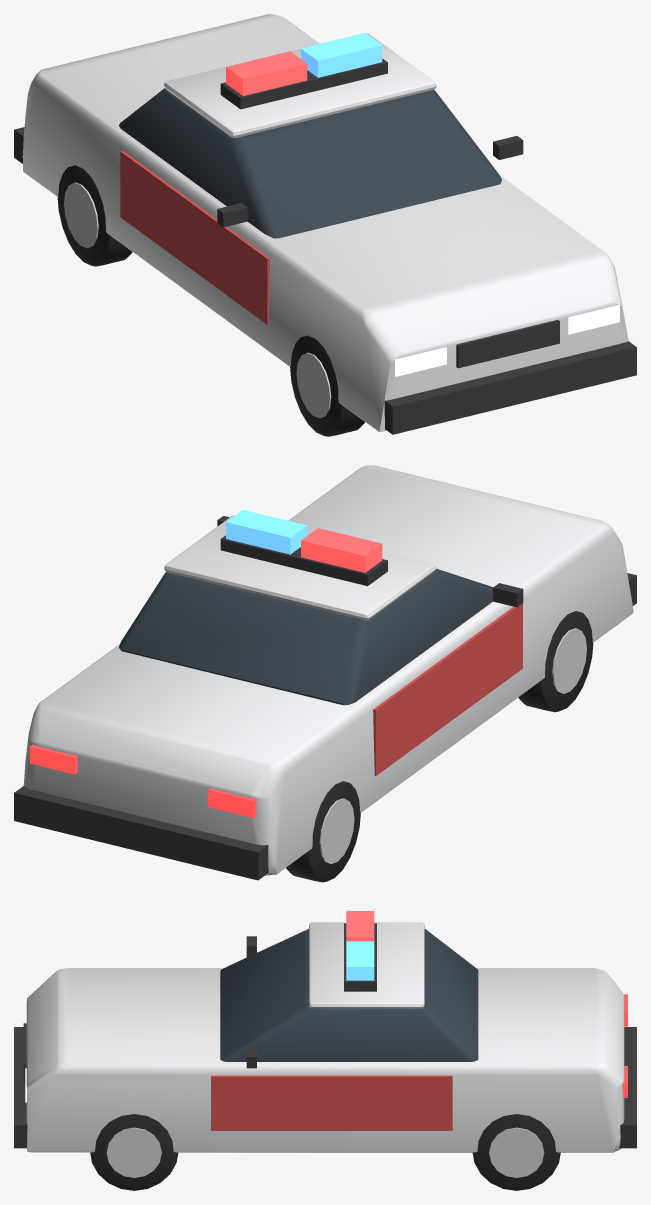
Rendered from car_police.glb.
3 renders of one model, top to bottom at view 1: azimuth 30°, elevation 25°; view 2: azimuth 150°, elevation 25°; view 3: azimuth 270°, elevation 25°, orthographic. The views are drawn at different scales.
Visible parts, largest first — view 1: body, wheel_fr, wheel_rr; view 2: body, wheel_fr, wheel_rr; view 3: body, wheel_fl, wheel_rl.
Boxes of the visible parts, box(x1,y1,x2,y2) form: body: box(14, 14, 636, 434); wheel_fr: box(290, 335, 364, 436); wheel_rr: box(57, 165, 132, 266); body: box(14, 465, 636, 880); wheel_fr: box(518, 611, 593, 712); wheel_rr: box(286, 781, 360, 882); body: box(14, 911, 636, 1152); wheel_fl: box(90, 1114, 178, 1190); wheel_rl: box(472, 1114, 560, 1190).
Bounding box in the file's own units: 2.24 × 1.76 × 4.9.
